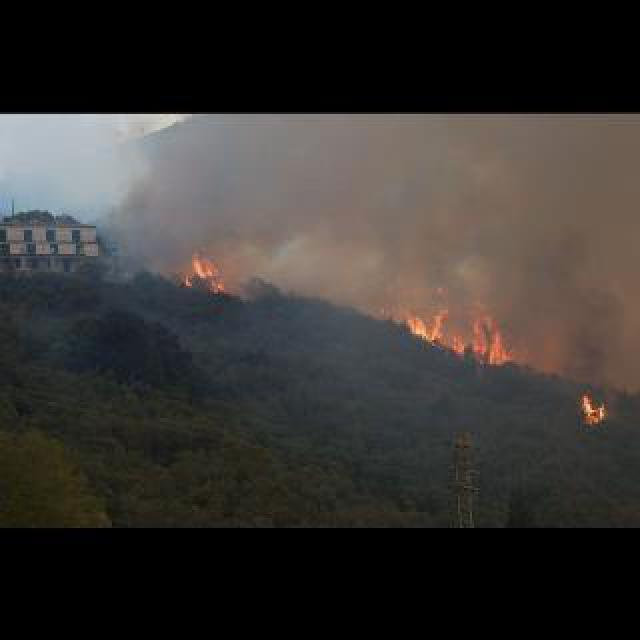Fire: (374, 282, 510, 368), (174, 250, 228, 300), (576, 394, 606, 420)
